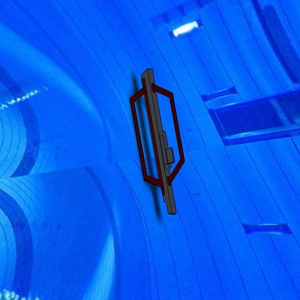submarine: (120, 63, 191, 226)
